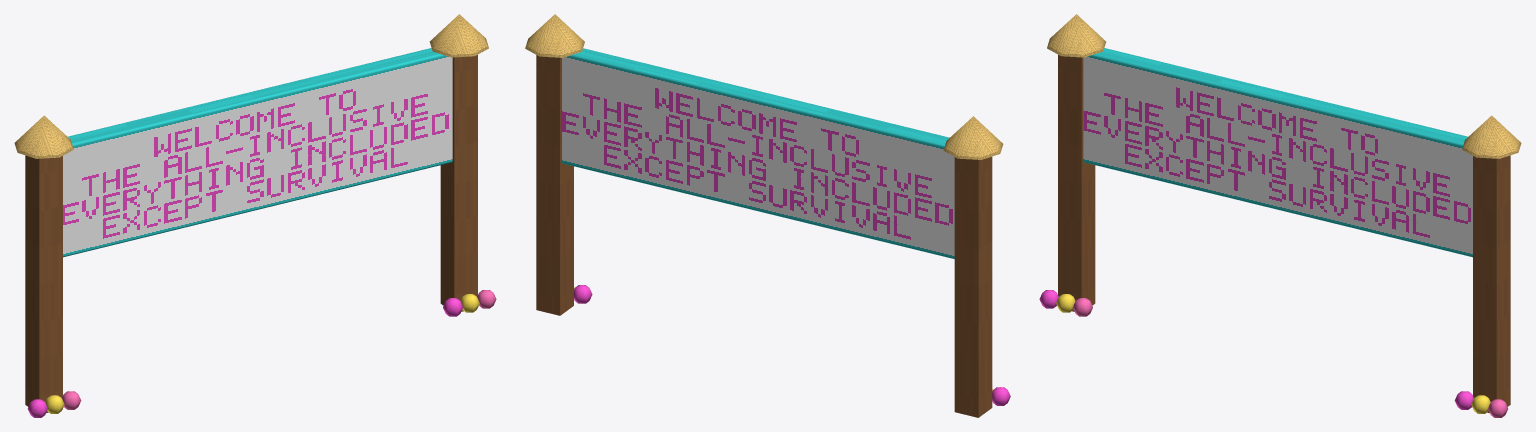
Rendered from p_ai_sign.glb.
3 views of the same model, side by side, from view 1: azimuth 30°, elevation 25°; view 2: azimuth 150°, elevation 25°; view 3: azimuth 330°, elevation 25° (orthographic).
Parts seen in each view (by area): view 1: p_ai_sign_lod0; view 2: p_ai_sign_lod0; view 3: p_ai_sign_lod0.
Boxes of the visible parts, left/top/right/bottom form: p_ai_sign_lod0: left=14, top=14, right=496, bottom=417; p_ai_sign_lod0: left=525, top=14, right=1010, bottom=417; p_ai_sign_lod0: left=1039, top=14, right=1521, bottom=417.
Size of what is drawn, in the model's own units: 7.9 by 4.7 by 0.9.
Materials: 1 (1 with a texture image).
